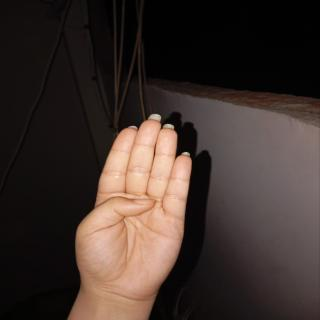KAAF: (65, 109, 204, 312)
